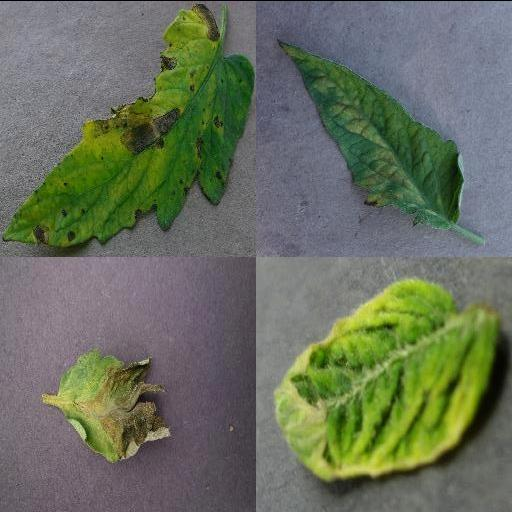Early Blight: (1, 2, 255, 244)
Late Blight: (53, 352, 169, 462)
Leaf Mold: (276, 40, 468, 228)
Yellow Leaf Curl Virus: (274, 274, 500, 481)
